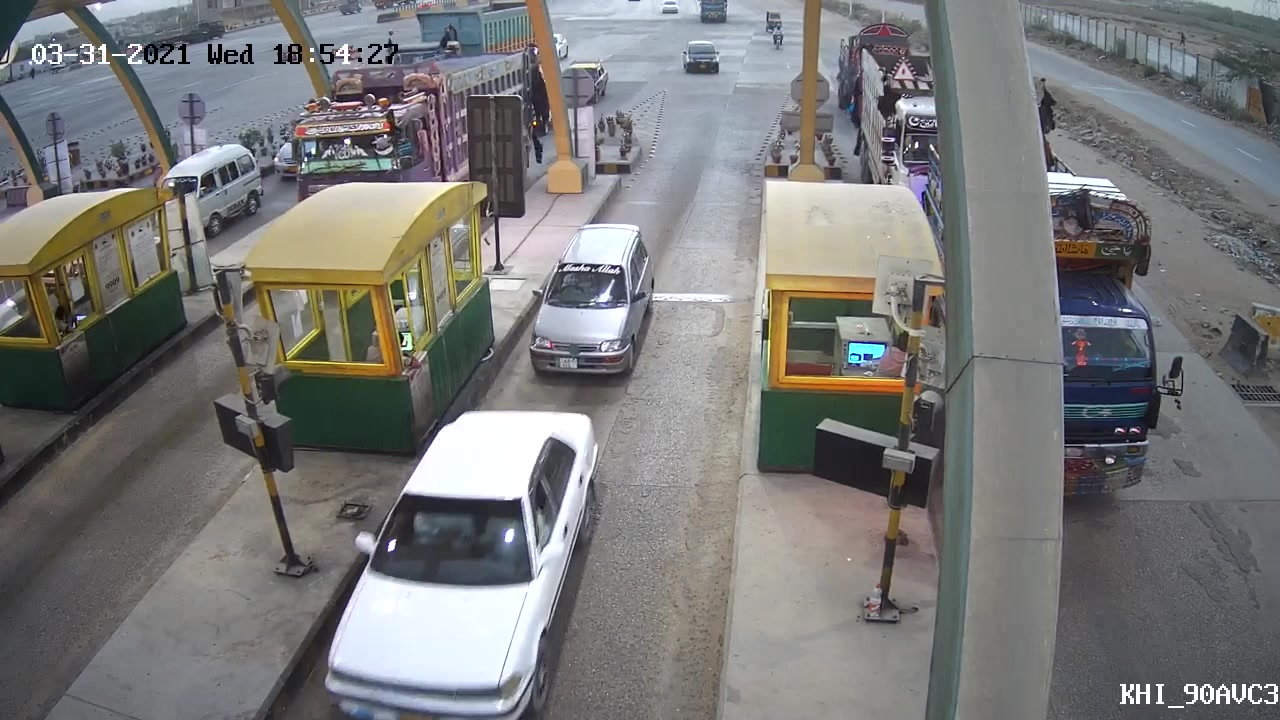F1: (522, 219, 667, 379)
